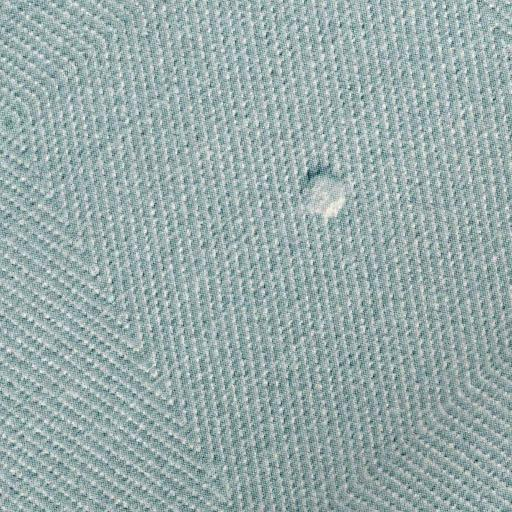knot: (294, 157, 356, 225)
